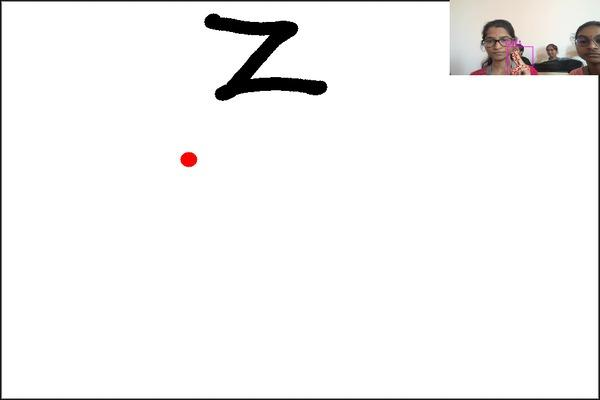Z: (200, 7, 343, 109)
